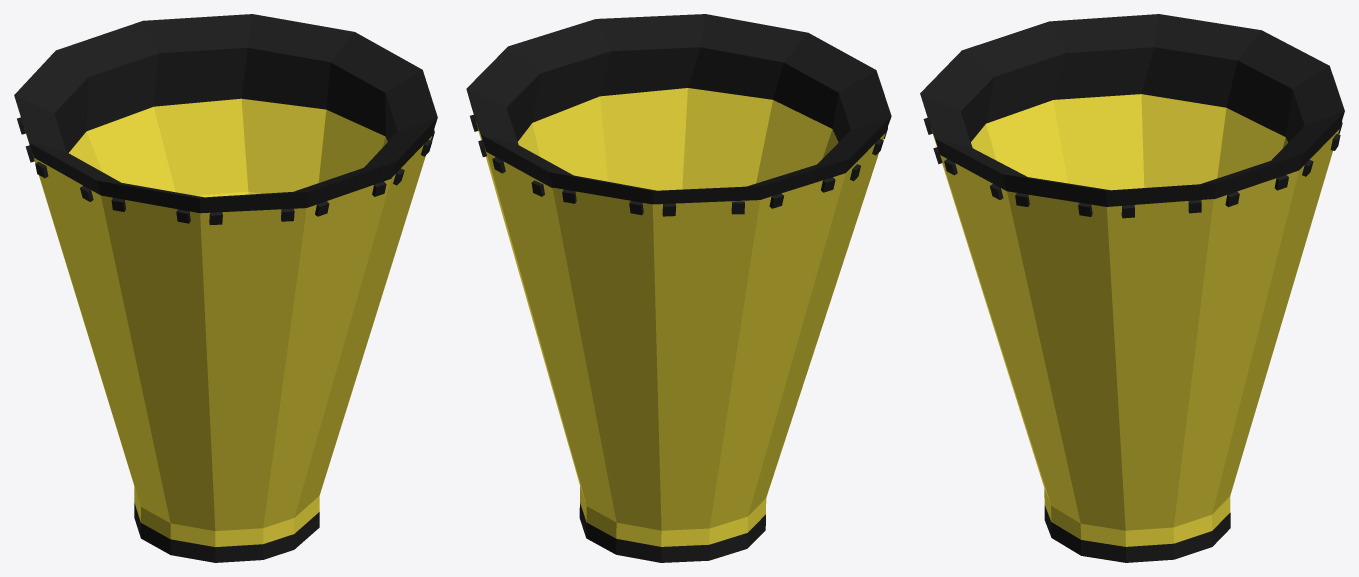
3 renders of one model, left to right at view 1: azimuth 30°, elevation 25°; view 2: azimuth 150°, elevation 25°; view 3: azimuth 270°, elevation 25°, orthographic.
Visible parts, largest first — view 1: group_579788514; view 2: group_579788514; view 3: group_579788514.
Part boxes in pixels (x1,y1,x2,y2): group_579788514: [14, 14, 437, 562]; group_579788514: [466, 14, 891, 562]; group_579788514: [920, 14, 1344, 562].
Bounding box in the file's own units: 47.67 × 52.53 × 47.62.
